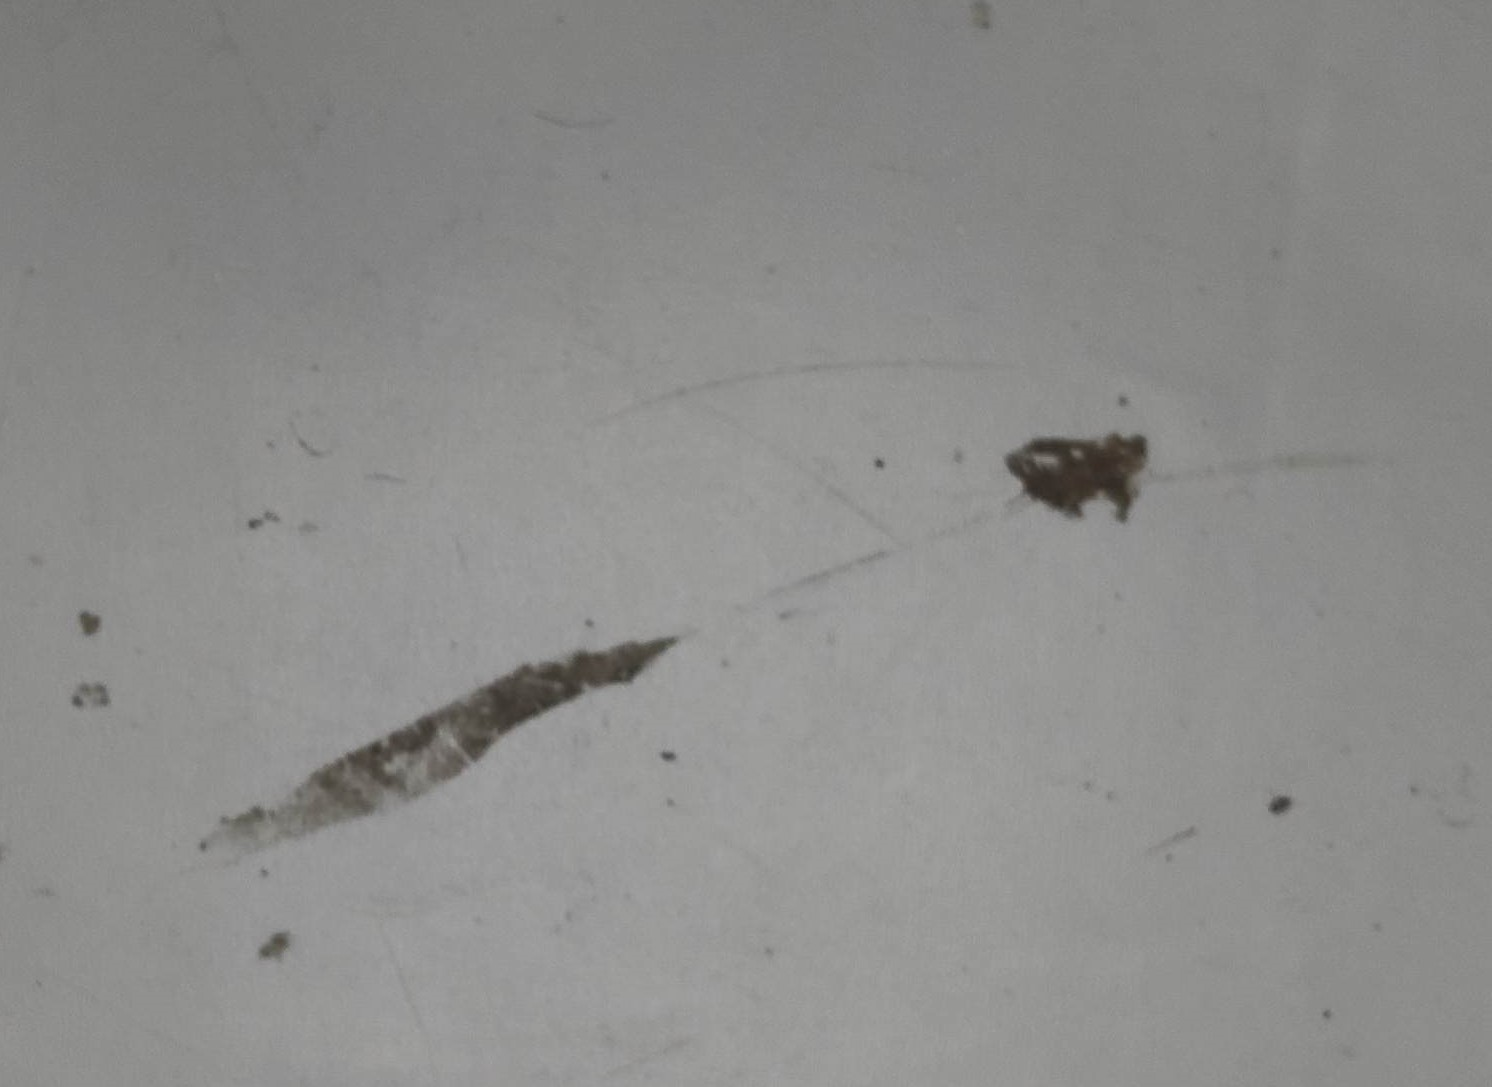grey spot: (199, 637, 670, 846), (1004, 431, 1148, 524), (257, 931, 288, 960), (70, 683, 109, 705), (80, 611, 102, 635)
